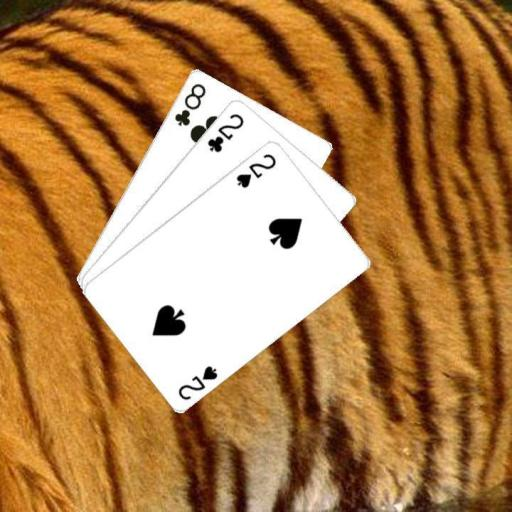card-corner: (174, 362, 220, 402), (204, 110, 245, 154), (233, 149, 278, 189), (170, 80, 208, 127)
